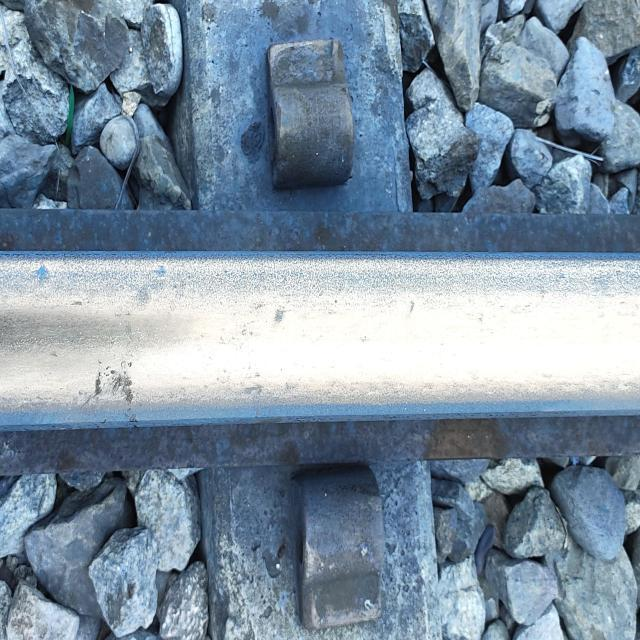Missing Fastener: (206, 0, 395, 212), (285, 464, 399, 638)
